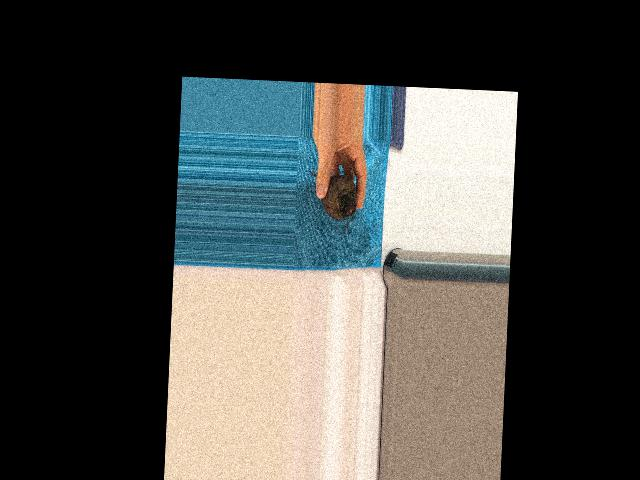beet: (305, 170, 357, 234)
